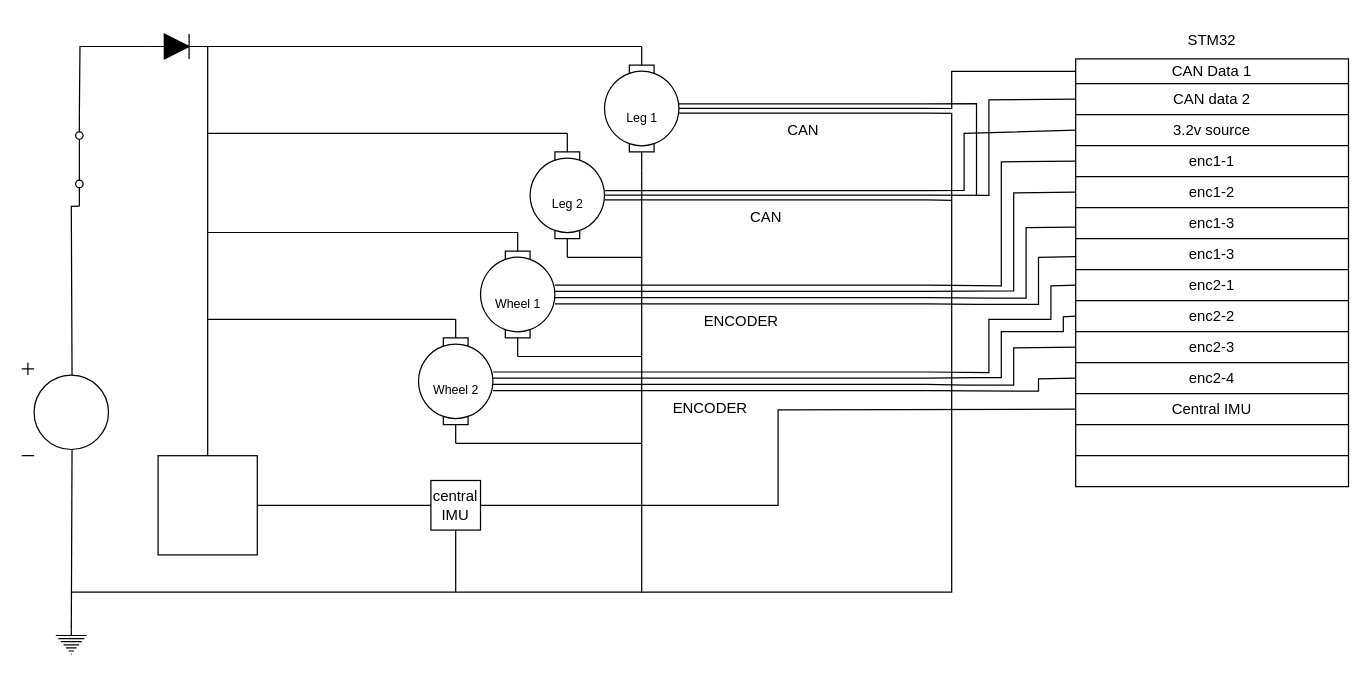
The diagram is 1370 pixels wide and 676 high, and some of its shapes have lost their labels. The centre of each missing label's shape, as x and y in pixels:
"24V" goes at point 64,408.
"Step Down 24V -> 5V" goes at point 207,504.
